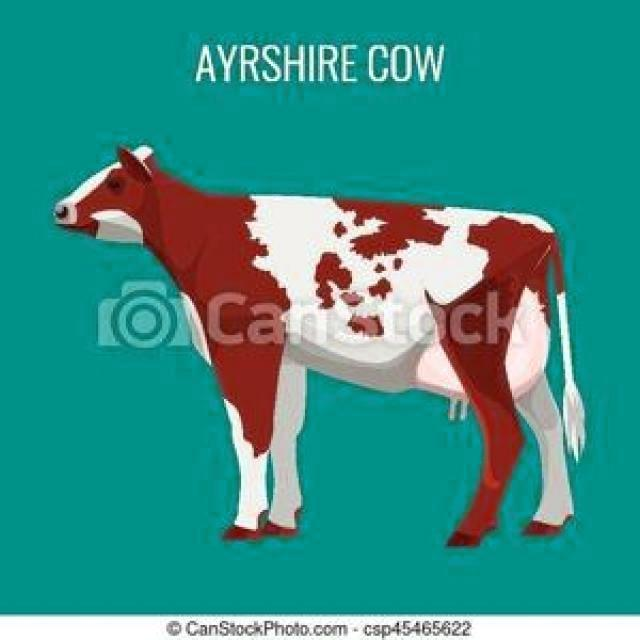COW: (55, 146, 584, 548)
